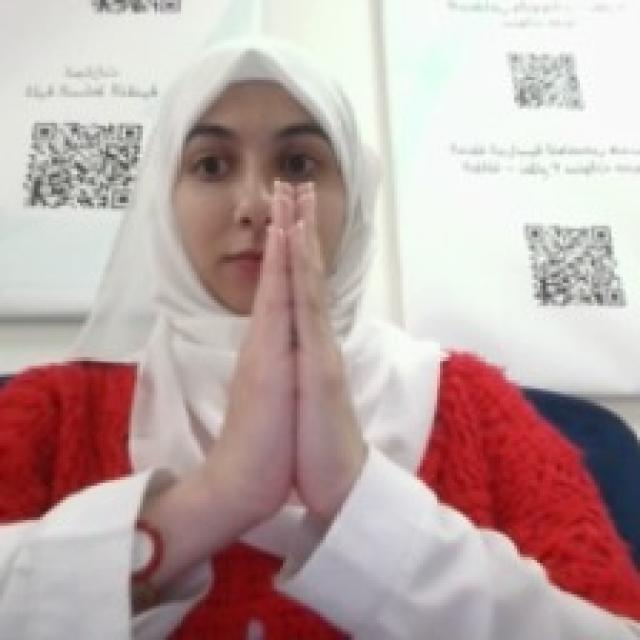sorry: (214, 174, 360, 503)
